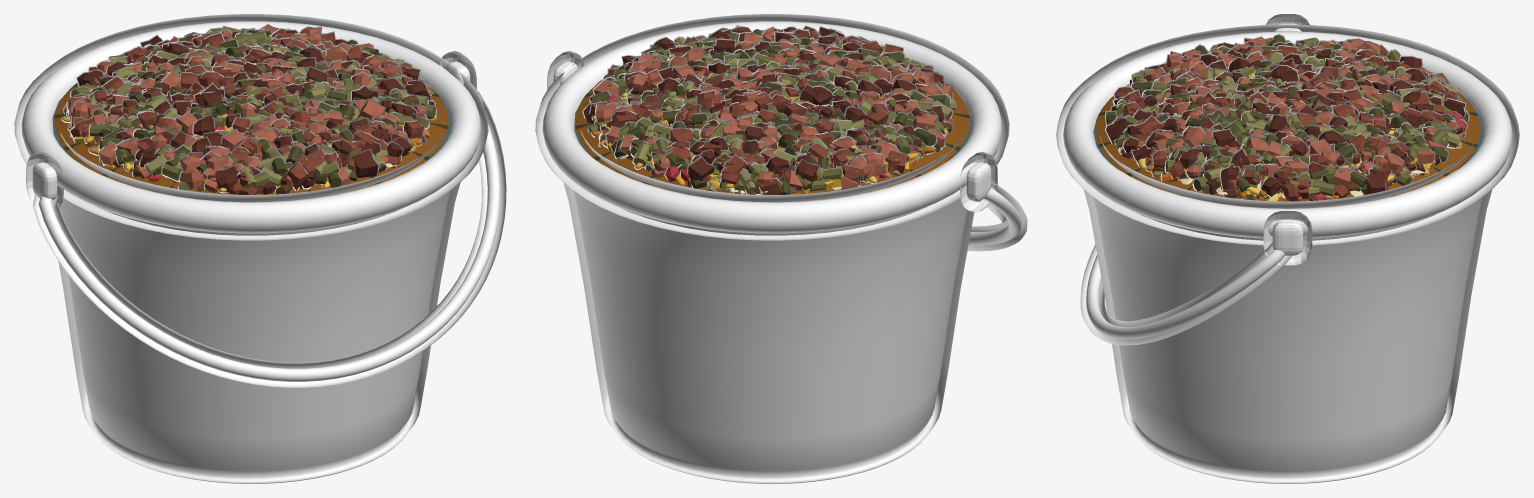
Rendered from eimer-alle.glb.
3 renders of one model, left to right at view 1: azimuth 30°, elevation 25°; view 2: azimuth 150°, elevation 25°; view 3: azimuth 270°, elevation 25°, orthographic. The views are drawn at different scales.
Parts seen in each view (by area): view 1: koerper, Torus, buegel, ruebe_dunkel, ruebe_hell, ruebe_mittel, mineral_dunkel, mineral_mittel, mineral_hell, hafer_haufen, Cube, Cube.001 (+1 smaller); view 2: koerper, Torus, ruebe_hell, ruebe_dunkel, ruebe_mittel, mineral_dunkel, mineral_mittel, mineral_hell, hafer_haufen, buegel, Cube, Cube.001 (+2 smaller); view 3: koerper, Torus, ruebe_dunkel, ruebe_hell, ruebe_mittel, mineral_dunkel, buegel, mineral_mittel, mineral_hell, hafer_haufen, Cube.001, mineral_haufen (+2 smaller).
Boxes of the visible parts, x1,y1,x2,y2 form: koerper: [58, 182, 460, 483]; Torus: [14, 14, 488, 240]; buegel: [33, 90, 506, 387]; ruebe_dunkel: [71, 28, 434, 194]; ruebe_hell: [62, 23, 429, 192]; ruebe_mittel: [66, 28, 429, 194]; mineral_dunkel: [68, 29, 420, 187]; mineral_mittel: [67, 25, 437, 188]; mineral_hell: [70, 27, 428, 190]; hafer_haufen: [51, 78, 451, 194]; Cube: [26, 151, 63, 207]; Cube.001: [439, 51, 476, 89]; koerper: [563, 182, 974, 483]; Torus: [535, 14, 1009, 240]; ruebe_hell: [592, 26, 953, 191]; ruebe_dunkel: [582, 25, 944, 182]; ruebe_mittel: [589, 25, 941, 194]; mineral_dunkel: [589, 29, 946, 194]; mineral_mittel: [587, 27, 950, 194]; mineral_hell: [586, 35, 956, 194]; hafer_haufen: [572, 65, 972, 194]; buegel: [967, 182, 1027, 251]; Cube: [960, 151, 997, 212]; Cube.001: [547, 51, 584, 89]; koerper: [1083, 189, 1492, 483]; Torus: [1056, 24, 1519, 245]; ruebe_dunkel: [1105, 41, 1466, 197]; ruebe_hell: [1108, 36, 1466, 199]; ruebe_mittel: [1113, 39, 1457, 201]; mineral_dunkel: [1105, 34, 1469, 198]; buegel: [1080, 242, 1292, 345]; mineral_mittel: [1115, 37, 1461, 199]; mineral_hell: [1116, 38, 1467, 199]; hafer_haufen: [1092, 82, 1483, 201]; Cube.001: [1263, 211, 1312, 265]; mineral_haufen: [1092, 81, 1483, 200].
Size of the model in its own units: 43.09 by 30.96 by 39.4.
